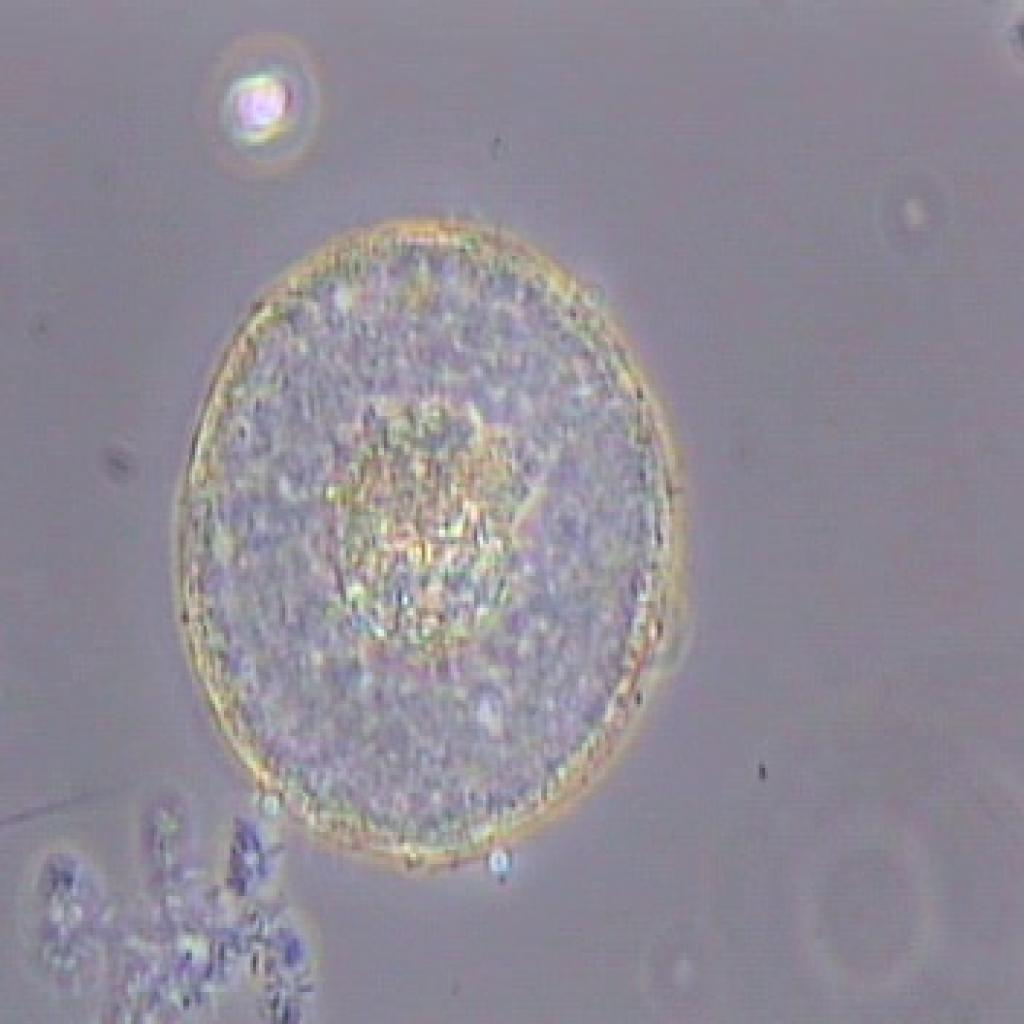Arcella: (164, 201, 706, 869)
